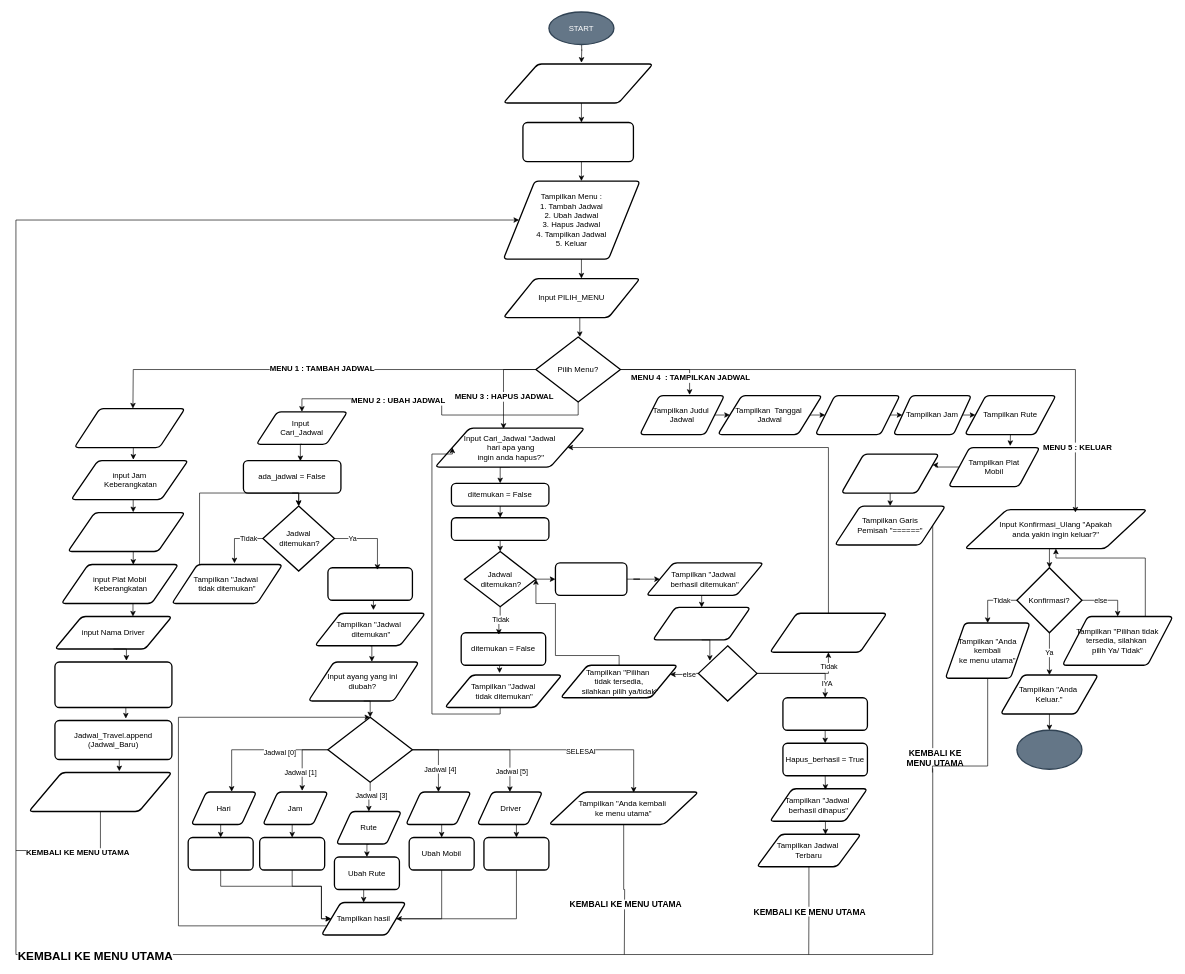
Image size: 1185x974. Some labels were removed from this diagram. The shapes that lost their labels are listed below. From the top down, each one's centre as x and y in pixels, then its label:
(577,83): Tampilkan Nama Program dan Informasi Jadwal
(578,142): Inisialisasi Jadwal Travel
(129,428): input Hari Keberangkatan
(857,415): Tampilkan Hari
(889,473): Tampilkan Nama Driver
(126,532): input Rute Keberangkatan
(499,529): Hapus_berhasil = False
(370,584): ada_jadwal = True
(590,579): ditemukan = True
(701,623): Tampilkan Jadwal Travel
(828,632): Tampilkan "Tidak jadi dihapus"
(113,684): Buat Jadwal Baru = [Hari, Jam, Rute, Plat Mobil, Nama Driver]
(727,673): Yakin ingin menghapus?
(825,714): Remove Jadwal
(370,749): Pilih Perubahan?
(1049,749): END
(100,792): Tampilkan "Jadwal Baru Berhasil di Tambahkan"
(438,808): Mobil
(220,853): Ubah Hari
(292,853): Ubah Jam
(516,853): Ubah Driver
